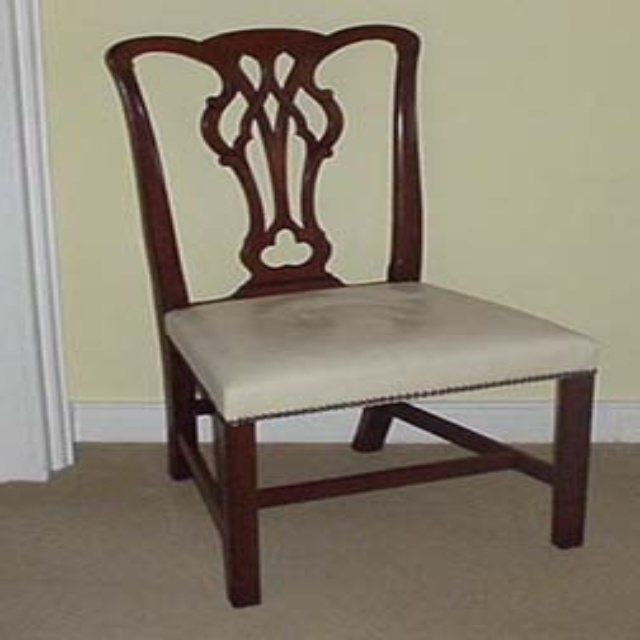obstacle: (107, 25, 597, 606)
